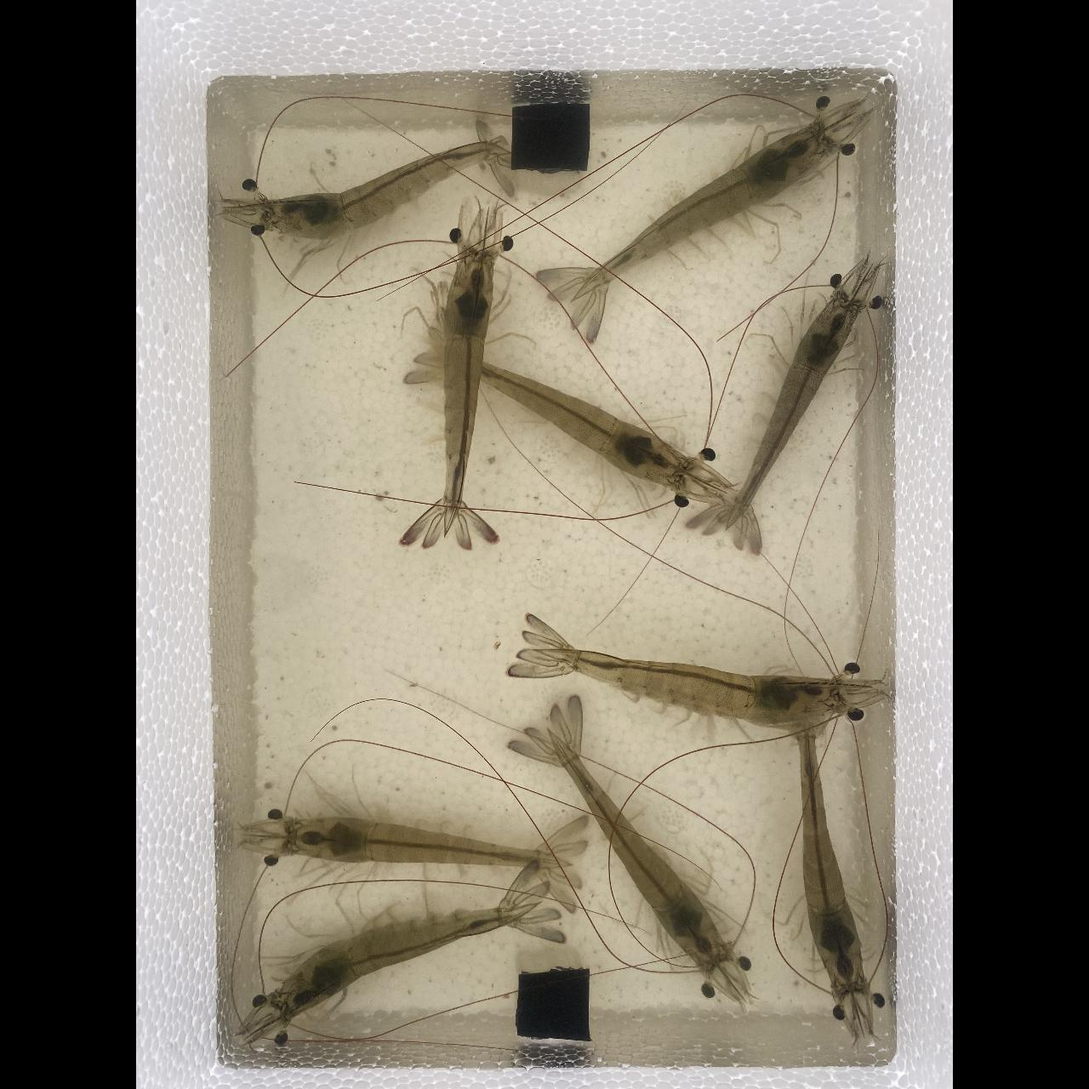box: (510, 102, 590, 172), (516, 968, 590, 1040)
top_shrimp: (572, 126, 827, 296), (546, 728, 725, 965), (429, 344, 685, 482), (721, 299, 856, 524), (276, 904, 536, 1014), (531, 645, 832, 725), (269, 138, 499, 235), (800, 721, 863, 990), (284, 817, 560, 868), (442, 254, 492, 527)
